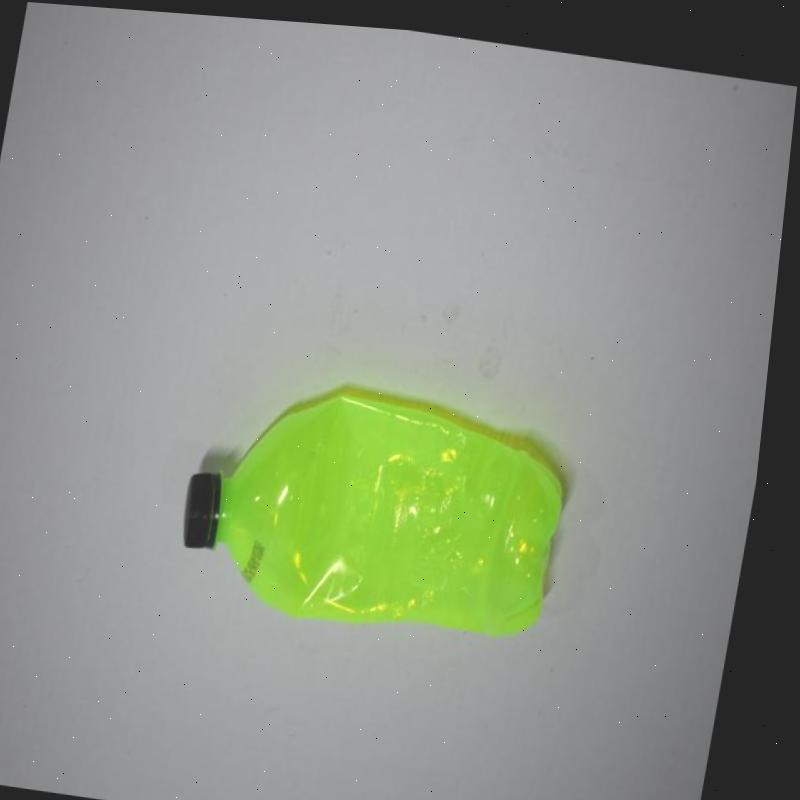botella: (180, 367, 591, 646)
